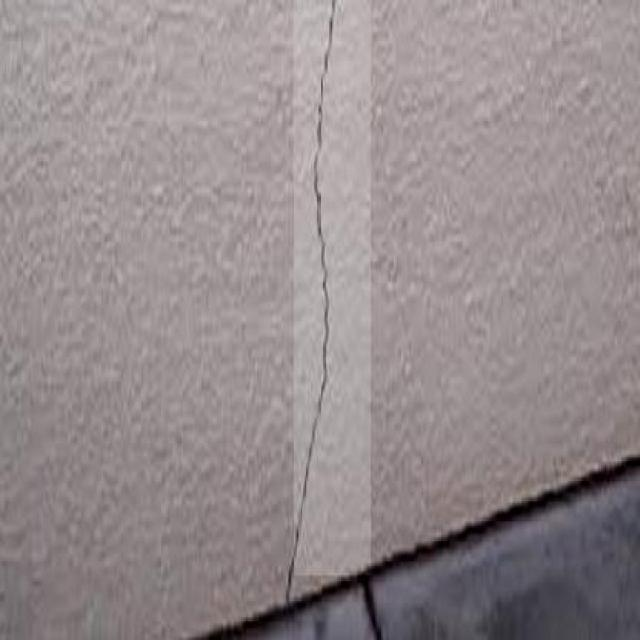Crack: (264, 1, 370, 631)
